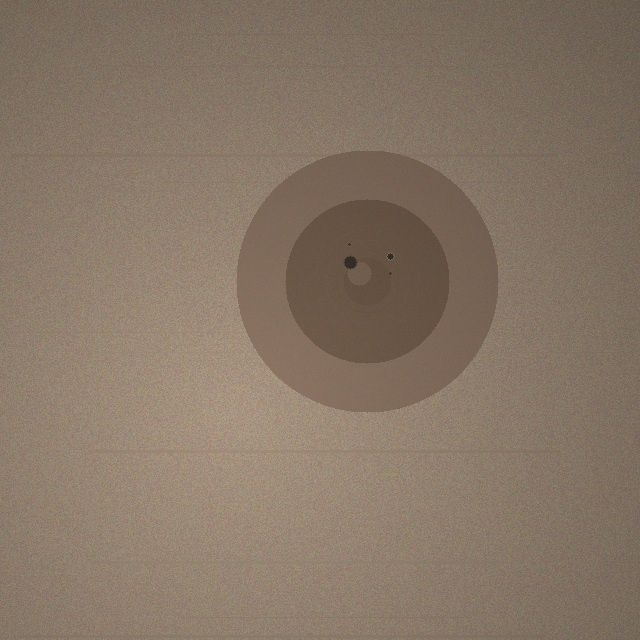shrinkage: (236, 150, 498, 412)
